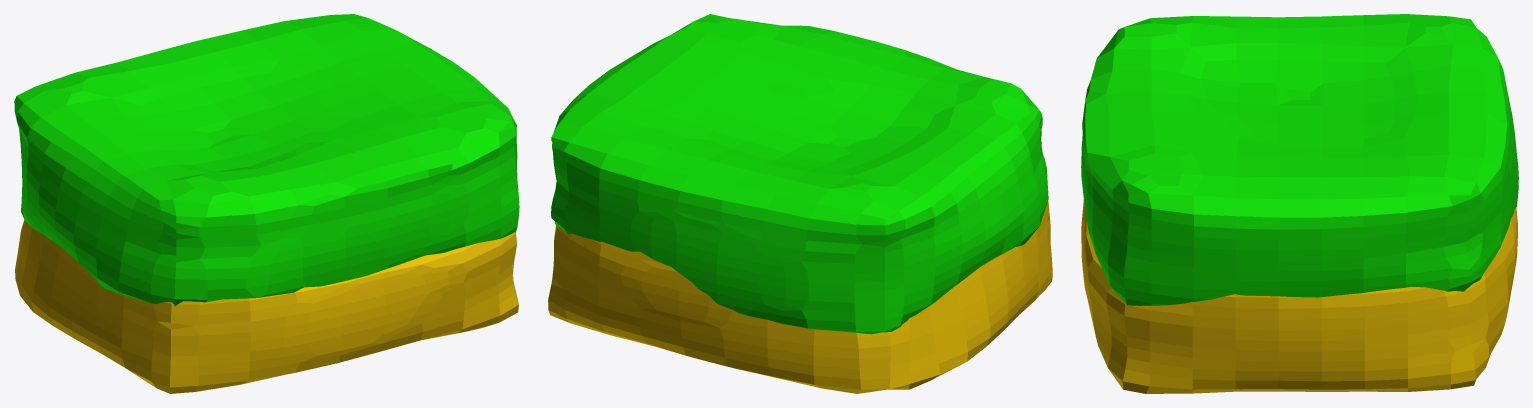
The model's file is Chão-test5Color.fbx.
3 views of the same model, side by side, from view 1: azimuth 30°, elevation 25°; view 2: azimuth 150°, elevation 25°; view 3: azimuth 270°, elevation 25° (orthographic). The views are drawn at different scales.
Visible parts, largest first — view 1: Sphere.001, Sphere; view 2: Sphere.001, Sphere; view 3: Sphere.001, Sphere.
Part boxes in pixels (<box>): Sphere.001: <box>14,14,519,306</box>; Sphere: <box>15,220,518,393</box>; Sphere.001: <box>551,14,1048,334</box>; Sphere: <box>548,201,1052,393</box>; Sphere.001: <box>1081,14,1518,305</box>; Sphere: <box>1081,199,1517,393</box>.
Bounding box in the file's own units: 5657 × 2626 × 4921.
